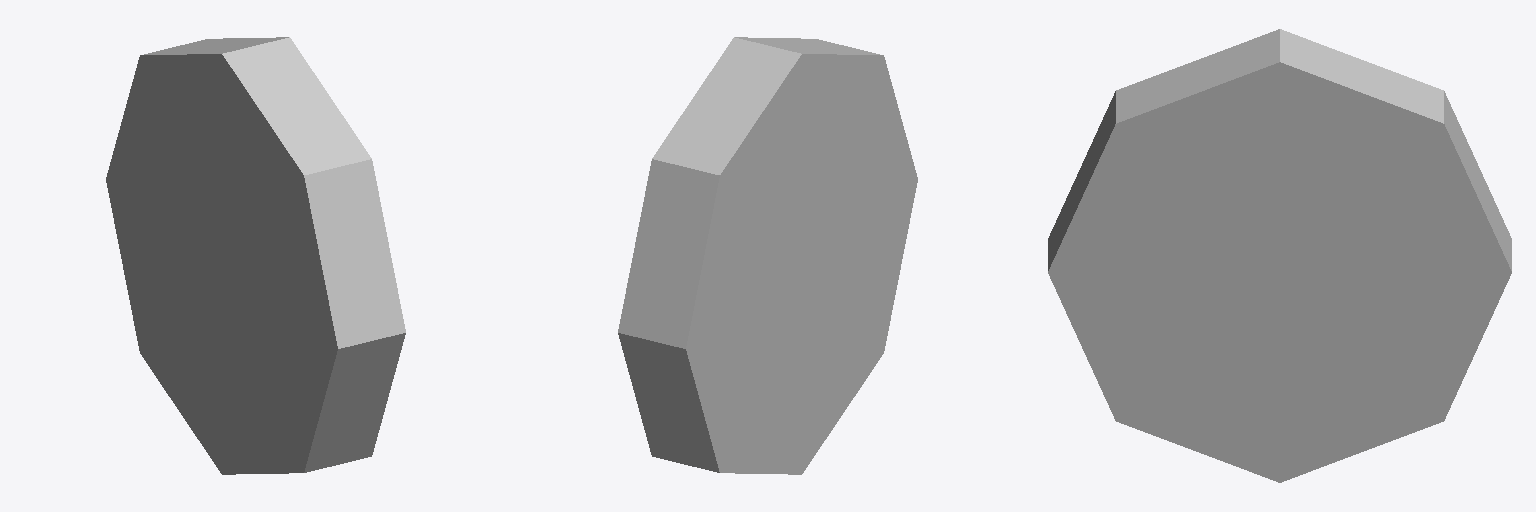
Rendered from CheckPointCollision.obj.
3 views of the same model, side by side, from view 1: azimuth 30°, elevation 25°; view 2: azimuth 150°, elevation 25°; view 3: azimuth 270°, elevation 25° (orthographic).
Visible parts, largest first — view 1: Cylinder001; view 2: Cylinder001; view 3: Cylinder001.
Part boxes in pixels (bbox=[...]): Cylinder001: bbox=[106, 37, 405, 474]; Cylinder001: bbox=[618, 37, 917, 474]; Cylinder001: bbox=[1048, 29, 1511, 482].
Size of the model in its own units: 8.34 by 49.24 by 49.24.